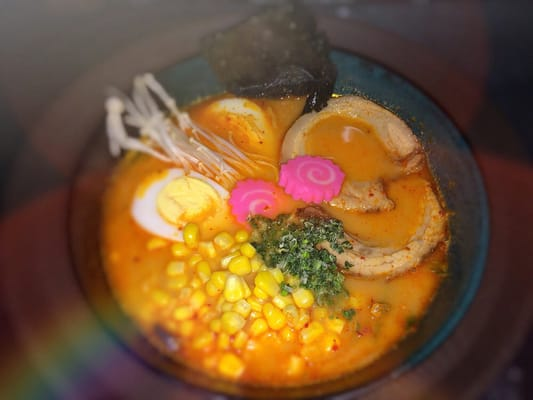curry: (248, 214, 350, 301)
